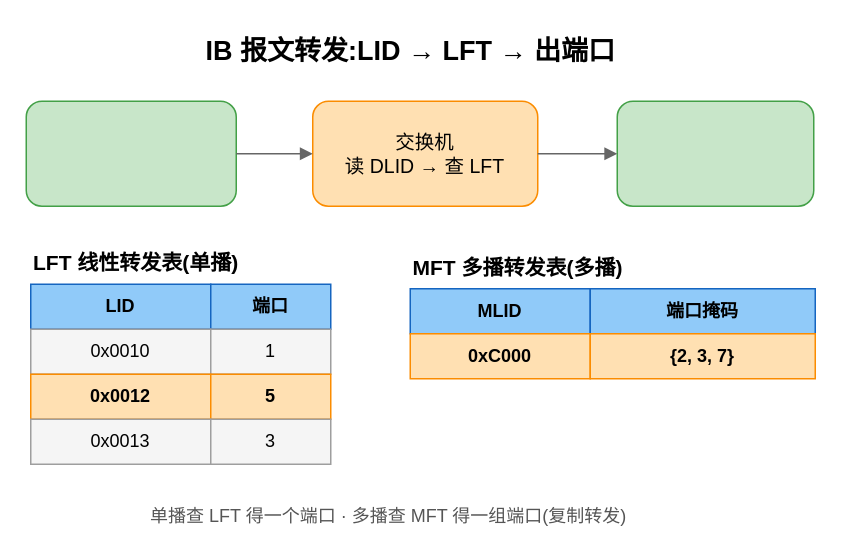
This 842x557 diagram has some shape labels left out. The box of each missing label's shape, as (x1, y1, x2, y2) in pixels:
从端口 5 发出: (616, 100, 814, 206)
报文进入 DLID = 0x0012: (25, 100, 236, 206)
